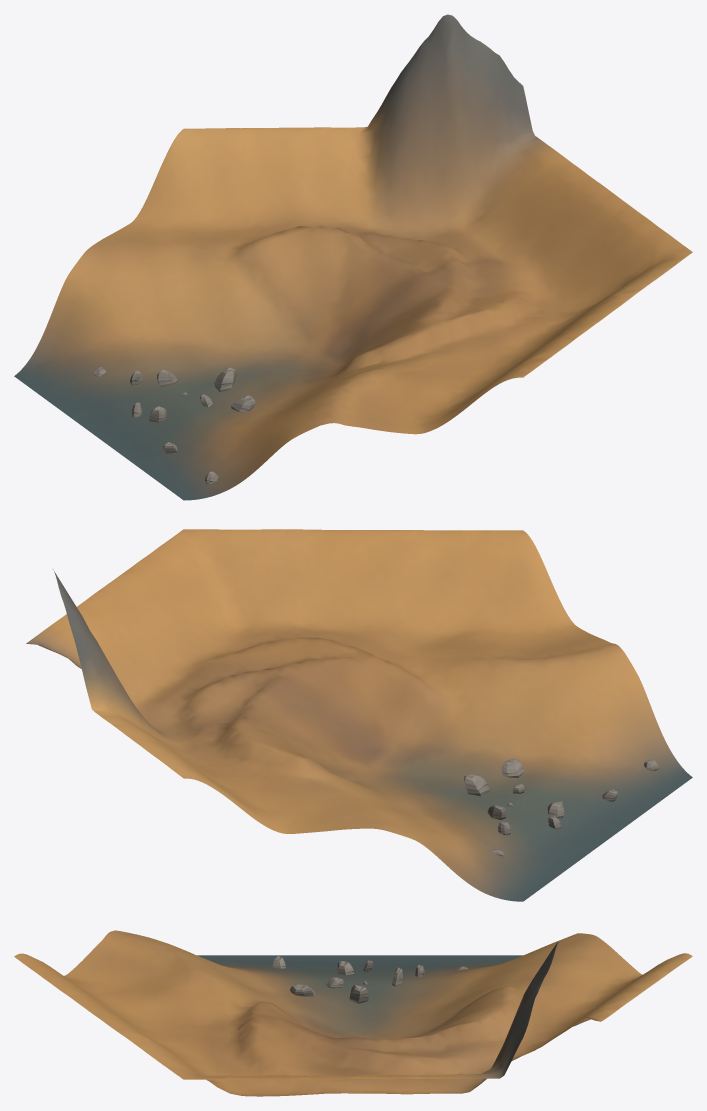
File: costa_-03_+07.glb
3 views of the same model, one above another, from view 1: azimuth 30°, elevation 25°; view 2: azimuth 150°, elevation 25°; view 3: azimuth 270°, elevation 25° (orthographic).
Visible parts, largest first — view 1: terrain, Formações costeiras; view 2: terrain, Formações costeiras; view 3: terrain, Formações costeiras.
Part boxes in pixels (left/top/right/bottom): terrain: left=14, top=14, right=692, bottom=500; Formações costeiras: left=94, top=367, right=255, bottom=483; terrain: left=26, top=529, right=692, bottom=901; Formações costeiras: left=464, top=758, right=658, bottom=856; terrain: left=14, top=930, right=692, bottom=1096; Formações costeiras: left=272, top=956, right=468, bottom=1003.
Size of the model in its own units: 4330 by 1930 by 5000.
1 material, 1 textured.
